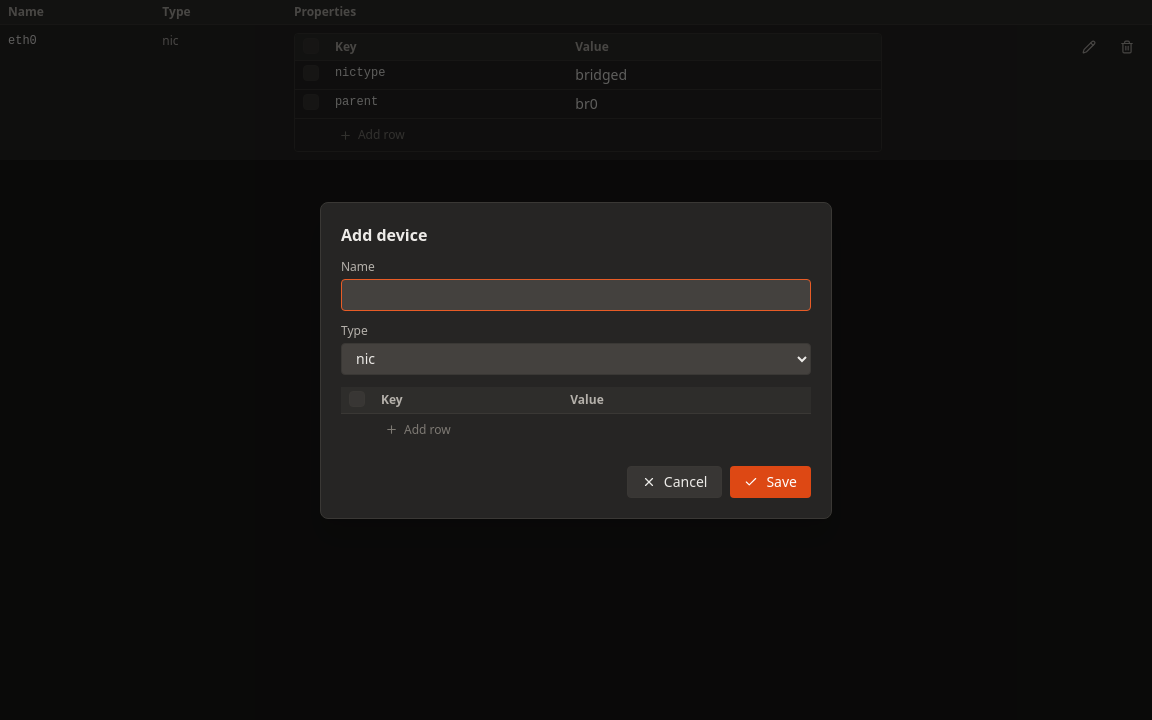
Test: DevicesTab › shows a validation error for a nic without nictype
Check: the row with test id "device-row-eth0" is shown, box [0, 25, 1151, 160]
Type "net1" into the field with test id "device-name" at coordinates (576, 294), box [341, 278, 811, 310]
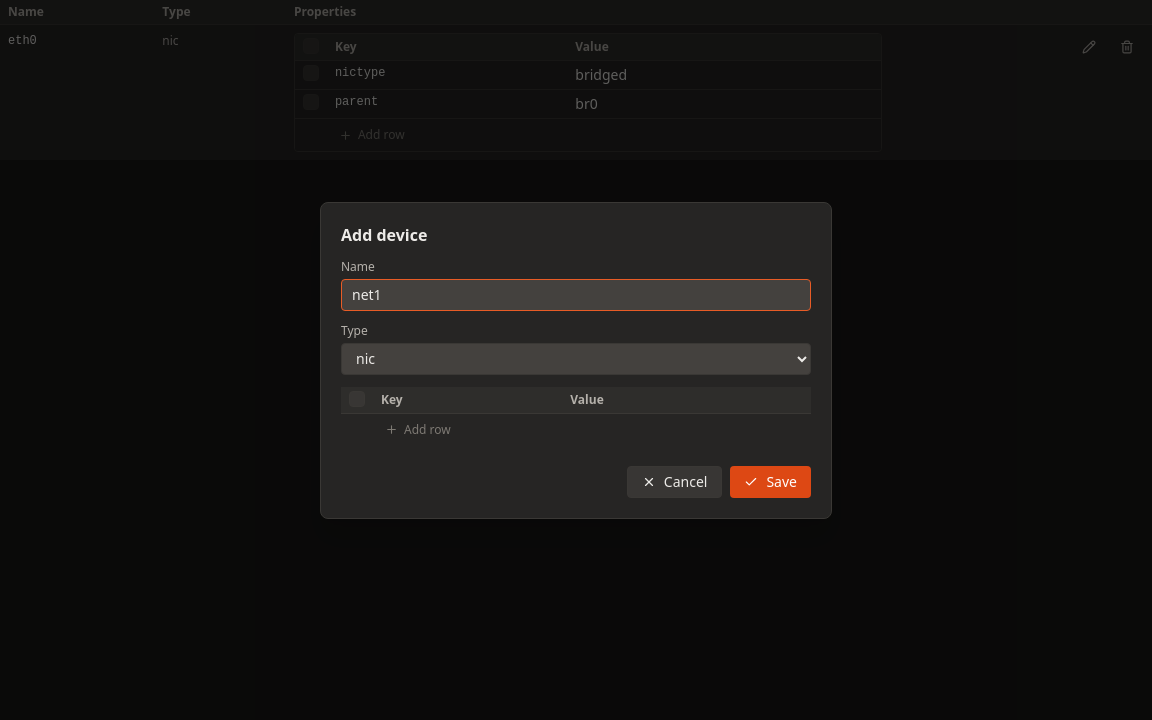
Click the button with test id "device-save" at coordinates (771, 482), box [730, 466, 811, 498]
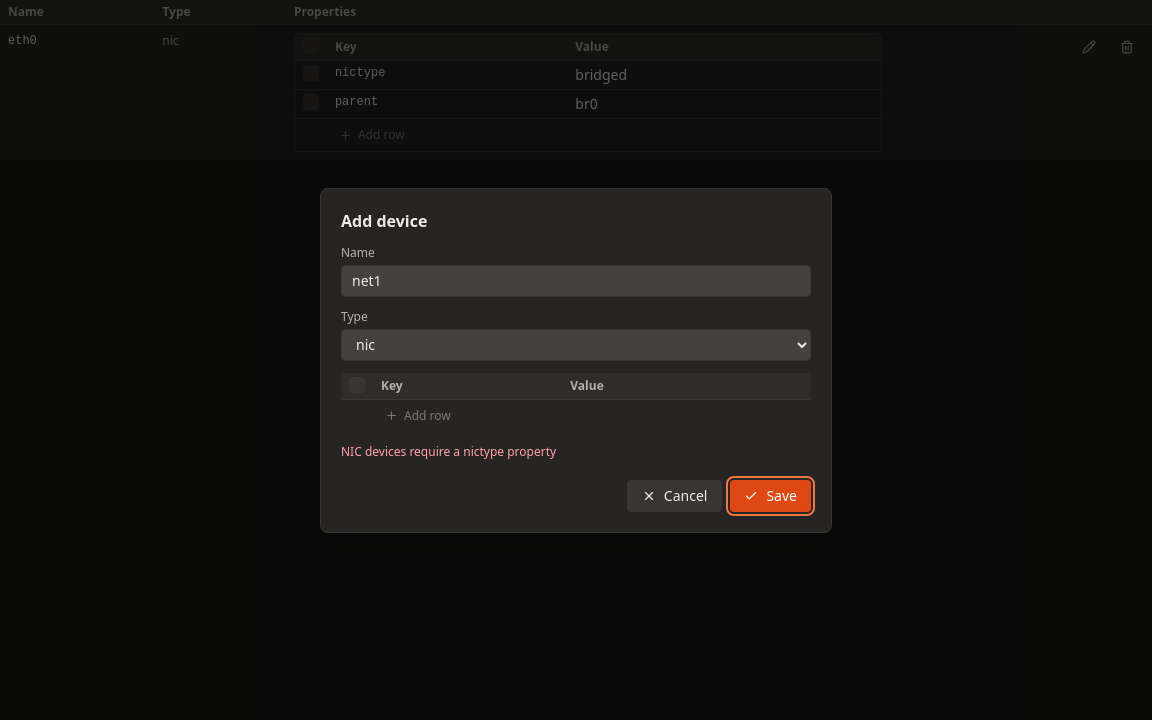
Check: the text with test id "device-error" shows "nictype", box [341, 442, 556, 460]
